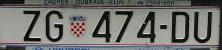-: (159, 24, 167, 29)
4: (137, 11, 156, 44), (92, 11, 111, 43)
7: (115, 11, 133, 44)
D: (172, 11, 189, 43)
G: (46, 10, 63, 41)
U: (194, 11, 213, 43)
Z: (22, 10, 41, 42)
